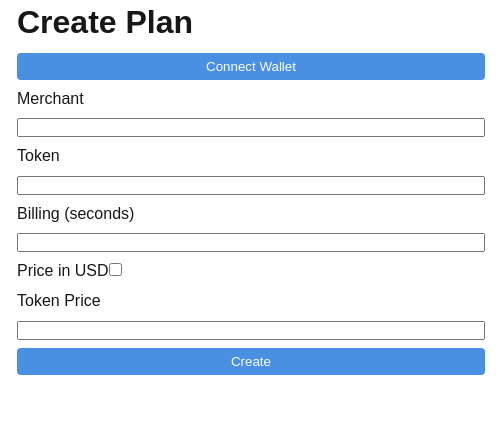
Test: validates billing cycle
Type "0x1111111111111111111111111111111111111111" into the field labelled "Token".
click(251, 185); type("0x1111111111111111111111111111111111111111")  # box [17,176,485,195]
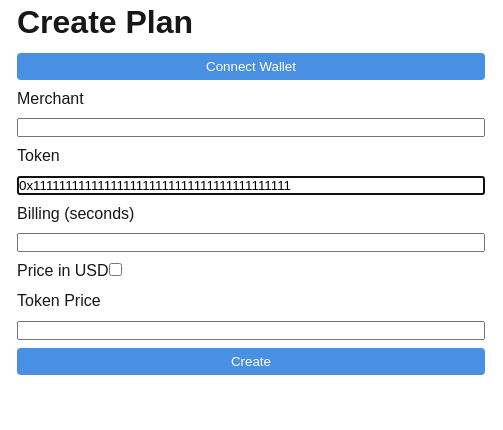
Type "0" into the field labelled "Billing (seconds)".
click(251, 242); type("0")  # box [17,233,485,252]
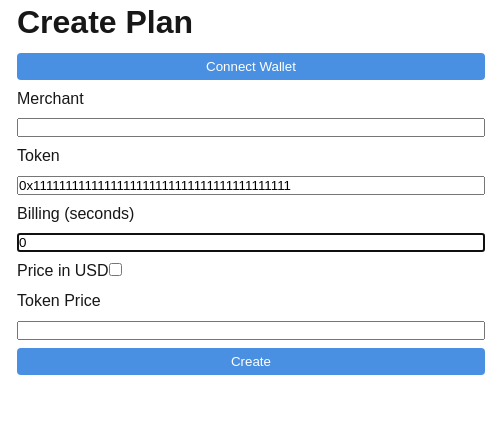
Type "1" into the field labelled "Token Price".
click(251, 330); type("1")  # box [17,321,485,340]
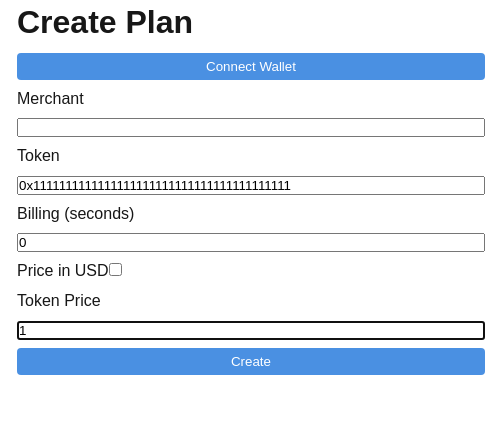
Click the button "Create".
click(251, 361)  # box [17,348,485,375]
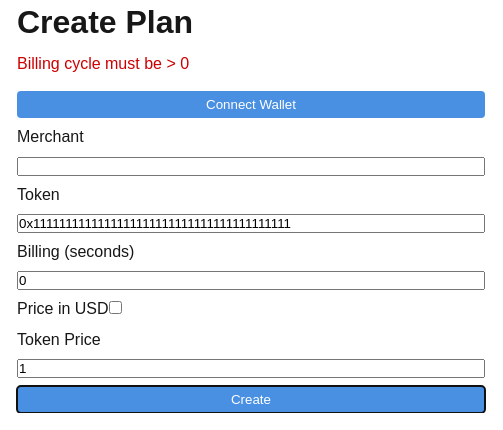
Result: the text "Billing cycle must be > 0" is shown at [17,55,189,72]
